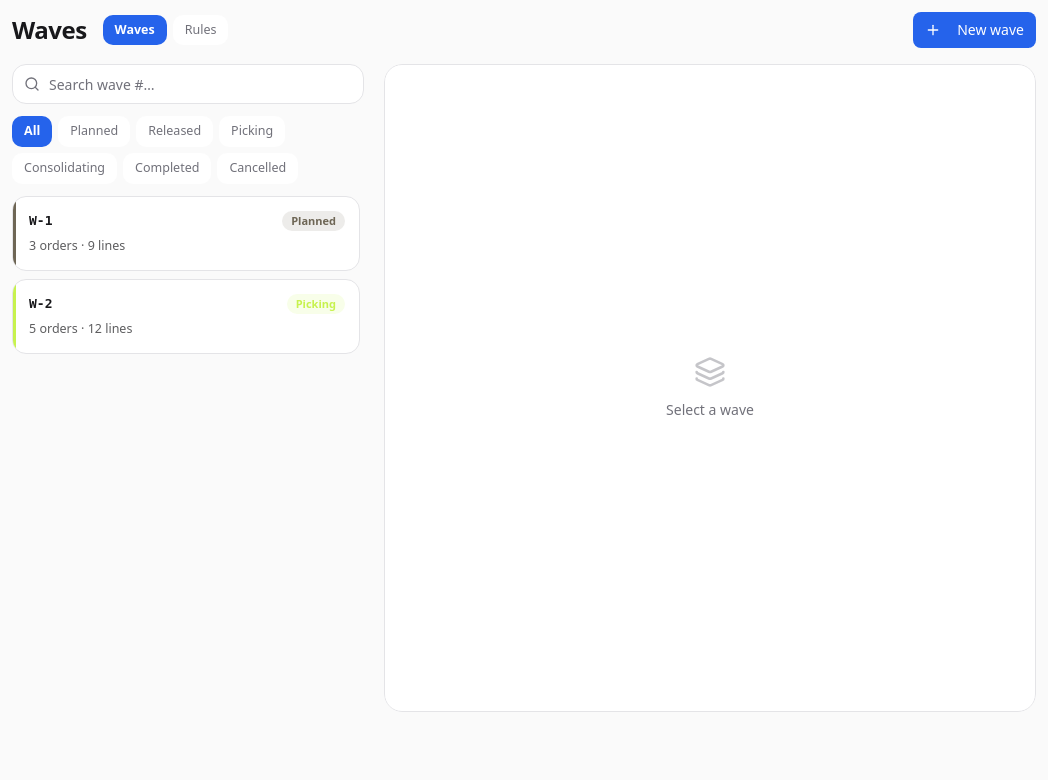
WavesPage -- board › shows selection provenance in the detail header when the fields are set (IMPORTANT-3)
The width and height of the screenshot is (1048, 780).
Click the text "W-1".
click(41, 221)  # box left=29, top=211, right=52, bottom=230
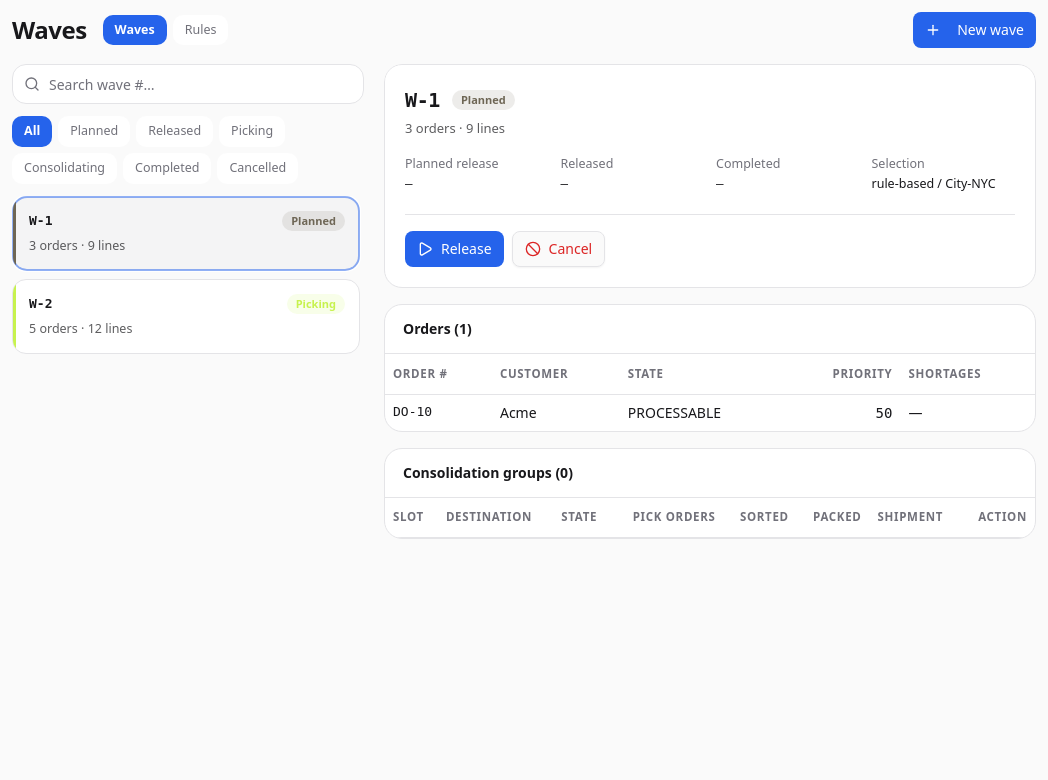
Expected: the text with test id "wave-selection-meta" reads "rule-based / City-NYC", left=872, top=175, right=996, bottom=192
